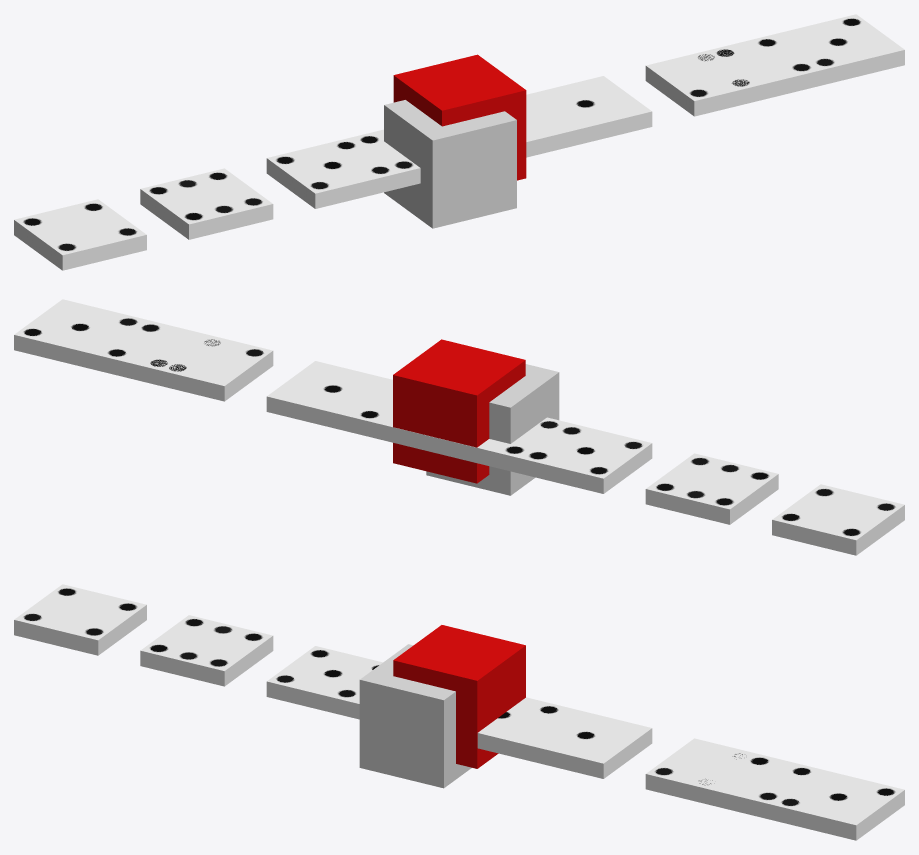
The picture shows the model from 3 angles, top to bottom: view 1: azimuth 30°, elevation 25°; view 2: azimuth 150°, elevation 25°; view 3: azimuth 330°, elevation 25°; orthographic projection.
Parts seen in each view (by area): view 1: Cube, Dom.111, Cube.001, Dom.303, Dom.212, Dom.202, Dom.101, Dom.010, Dom.111_low_0; view 2: Cube.001, Dom.111, Dom.303, Dom.212, Dom.202, Dom.101, Dom.010, Cube, Dom.111_low_0; view 3: Cube, Cube.001, Dom.111, Dom.303, Dom.010, Dom.202, Dom.101, Dom.212, Dom.111_low_0.
Boxes of the visible parts, x1,y1,x2,y2 form: Cube: (384, 100, 516, 228); Dom.111: (689, 14, 904, 105); Cube.001: (393, 54, 526, 180); Dom.303: (140, 168, 273, 239); Dom.212: (266, 137, 399, 208); Dom.202: (14, 199, 146, 270); Dom.101: (645, 45, 777, 116); Dom.010: (526, 76, 652, 147); Dom.111_low_0: (351, 102, 567, 188); Cube.001: (393, 339, 525, 483); Dom.111: (14, 299, 230, 390); Dom.303: (645, 453, 778, 524); Dom.212: (519, 422, 652, 493); Dom.202: (772, 484, 904, 555); Dom.101: (141, 330, 273, 401); Dom.010: (266, 361, 392, 432); Cube: (426, 364, 559, 495); Dom.111_low_0: (351, 386, 567, 473); Cube: (359, 644, 471, 788); Cube.001: (393, 625, 525, 768); Dom.111: (688, 749, 904, 840); Dom.303: (140, 615, 273, 686); Dom.010: (519, 707, 652, 778); Dom.202: (14, 584, 146, 655); Dom.101: (645, 738, 777, 809); Dom.212: (266, 646, 382, 717); Dom.111_low_0: (351, 696, 567, 758).
Bounding box in the file's own units: 20 × 2.36 × 2.5.
8 materials, 6 textured.
